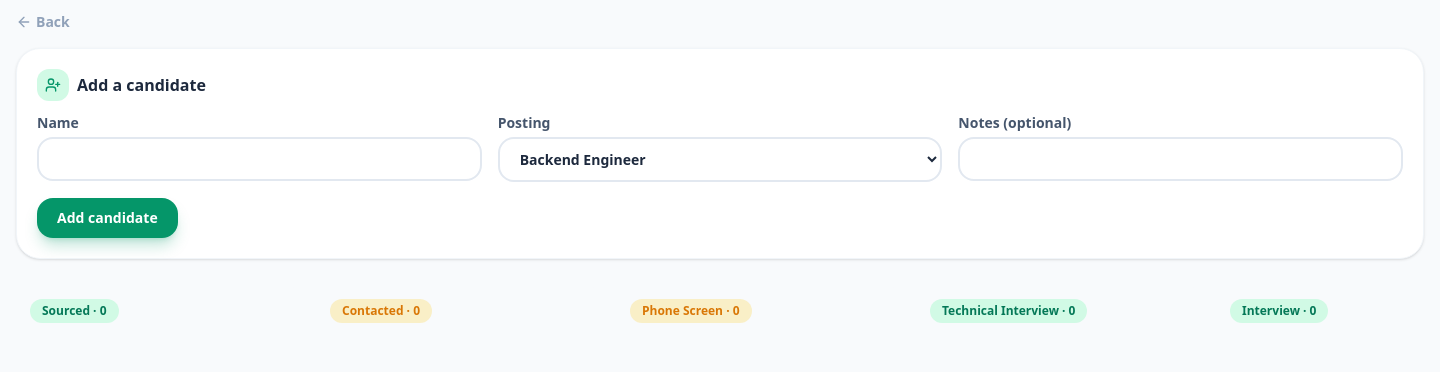
Test: EmployerBoard › shows an error when adding a candidate fails
Type "Jane Dev" into the field labelled "Name" at (259, 159), box [37,137,482,181]
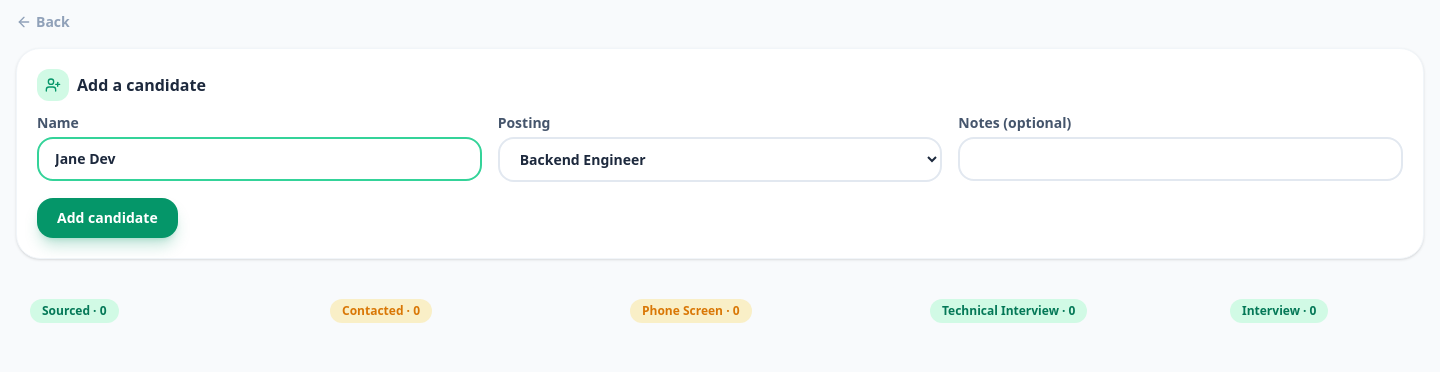
Click the button "Add candidate" at (107, 218), box [37,198,178,238]
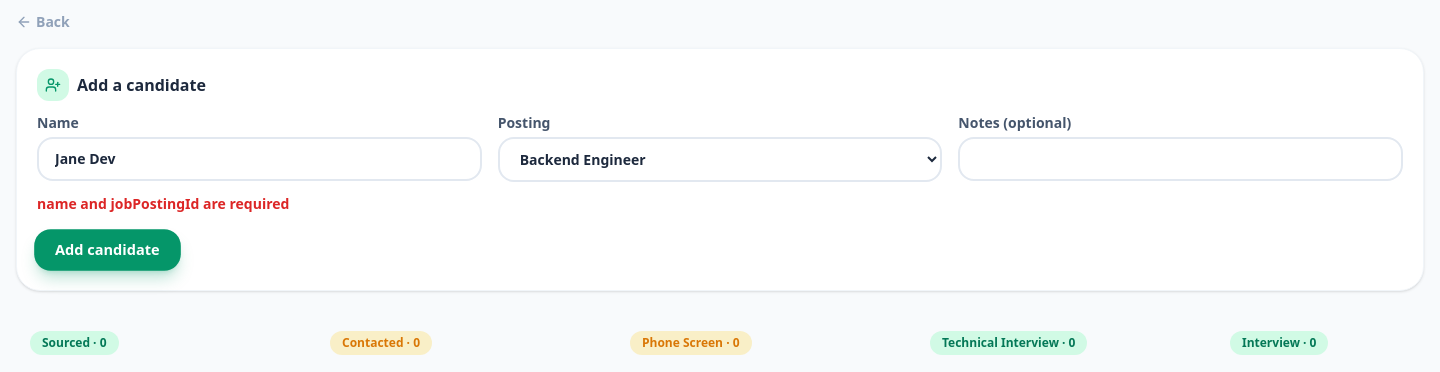
Check: the message shows "required", box [37,194,289,213]
